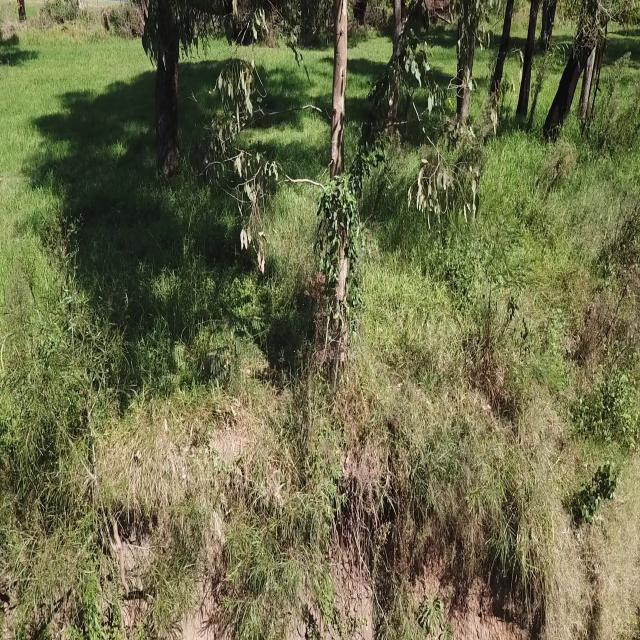Mysore-Thorn-Weed: (191, 258, 267, 398)
